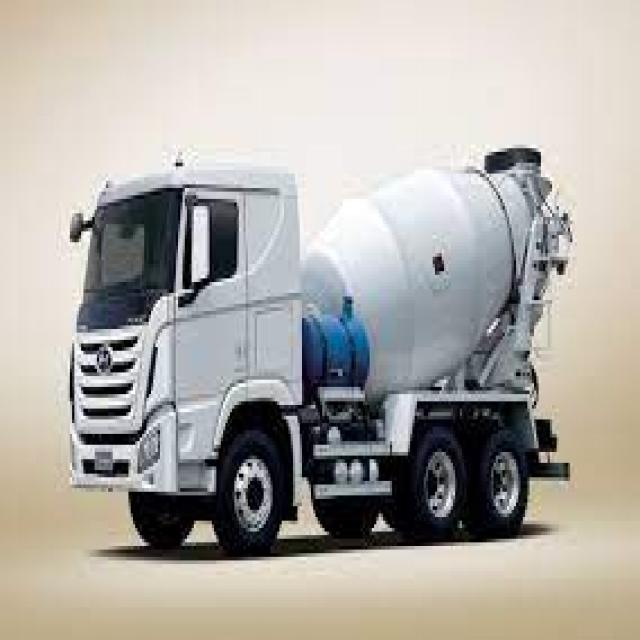Mixer Truck: (66, 140, 574, 558)
